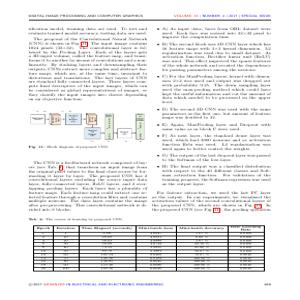diagram: (25, 110, 149, 146)
table: (29, 223, 268, 274)
text: (151, 23, 274, 216), (24, 25, 150, 105), (27, 157, 150, 214)
